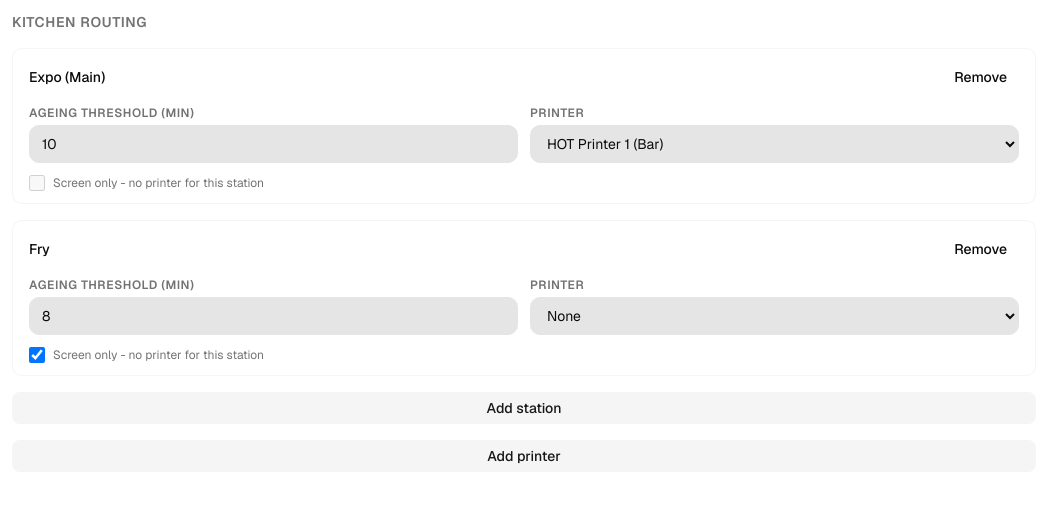
Test: StationsPanel › saves an explicit no-printer acknowledgement, clearing the blocked-save error
Select "None" in the dropdown with test id "station-printer-select-station-1": (774, 144) [530,125,1019,163]
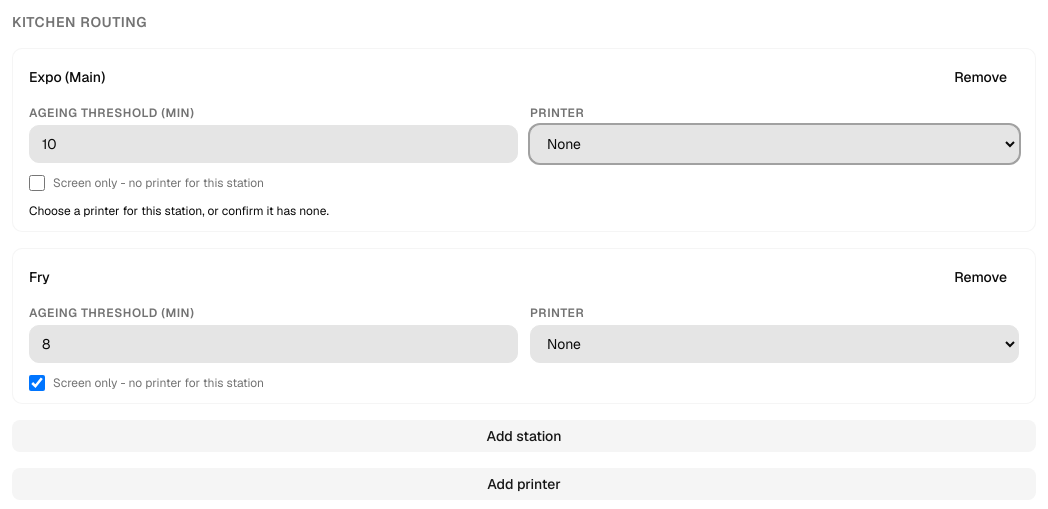
Now the text "Choose a printer for this station, or confirm it has none." is shown, box [29,203,329,219]
Click the checkbox with test id "station-no-printer-ack-station-1": (37, 183) [29,175,45,191]
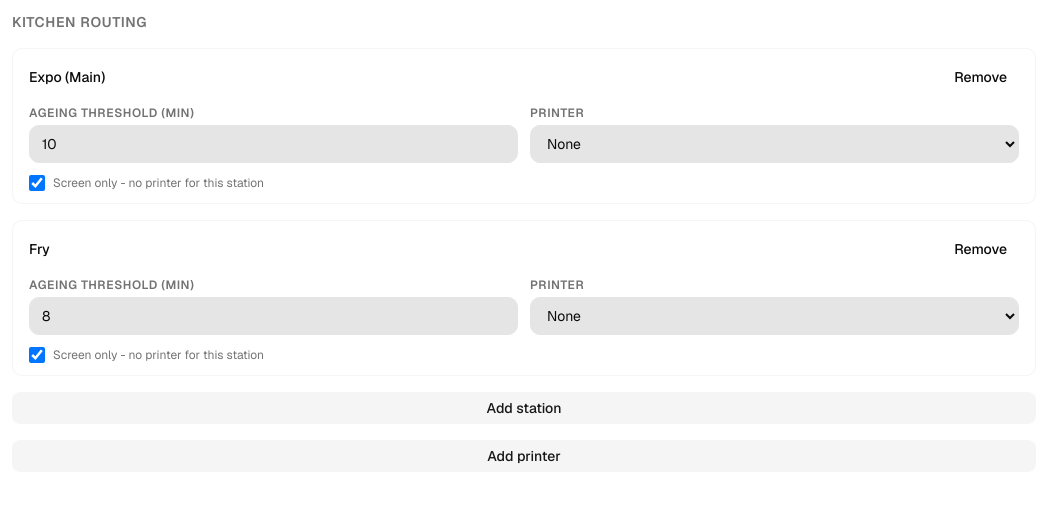
Now the text with test id "station-printer-error-station-1" is gone
